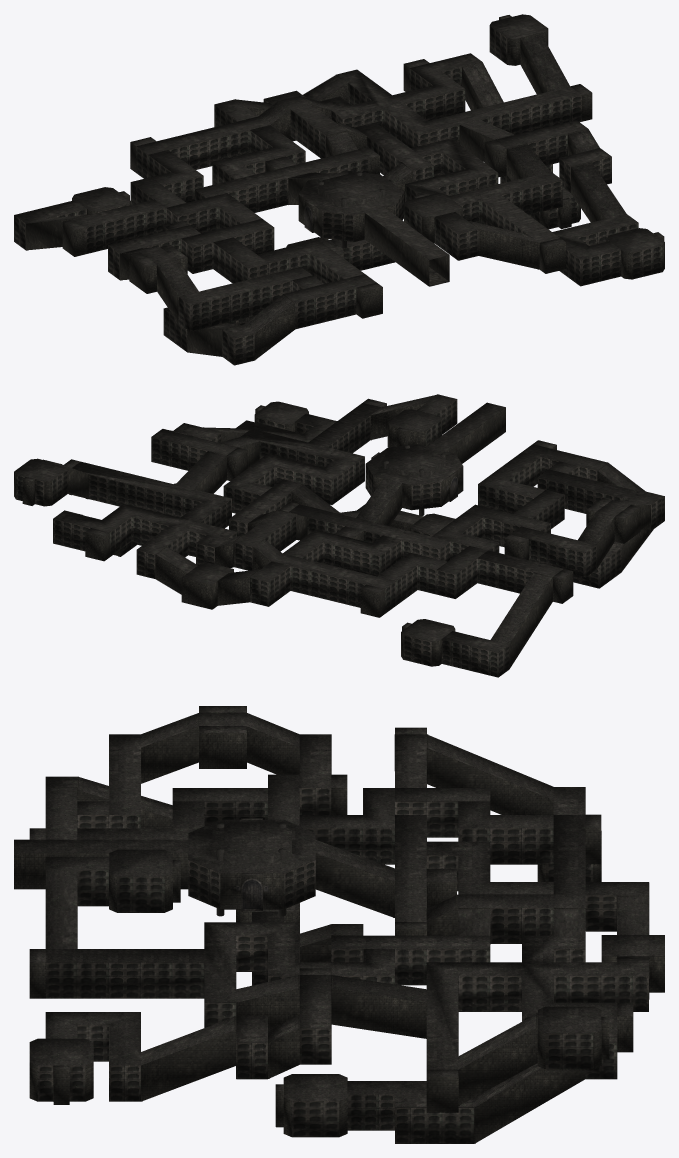
File: CRIPTA.fbx
The picture shows the model from 3 angles, top to bottom: view 1: azimuth 30°, elevation 25°; view 2: azimuth 150°, elevation 25°; view 3: azimuth 270°, elevation 25°; orthographic projection. The views are drawn at different scales.
Visible parts, largest first — view 1: CRIPTA.033; view 2: CRIPTA.033; view 3: CRIPTA.033.
Part boxes in pixels (x1=…): CRIPTA.033: x1=14, y1=14, x2=664, y2=365; CRIPTA.033: x1=14, y1=394, x2=664, y2=677; CRIPTA.033: x1=14, y1=706, x2=664, y2=1143.
Size of the model in its own units: 5202 by 1004 by 4100.
8 materials, 8 textured.
